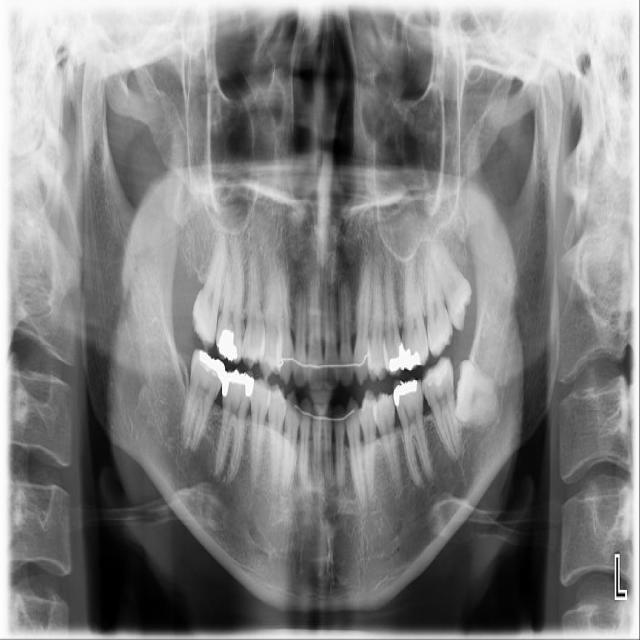52: (178, 342, 237, 399), (397, 320, 432, 373), (217, 364, 257, 409), (391, 376, 427, 421), (216, 315, 245, 363), (383, 330, 404, 378)
73: (608, 584, 616, 587)
BioHorizons Implant: (419, 242, 455, 358)
BioLife Implant: (428, 233, 483, 334)
Biomet 3i Implant: (450, 357, 507, 432)
Blue Sky Bio Implant: (418, 354, 464, 464)
Caries: (187, 230, 229, 349)
Implant: (178, 345, 229, 458)
